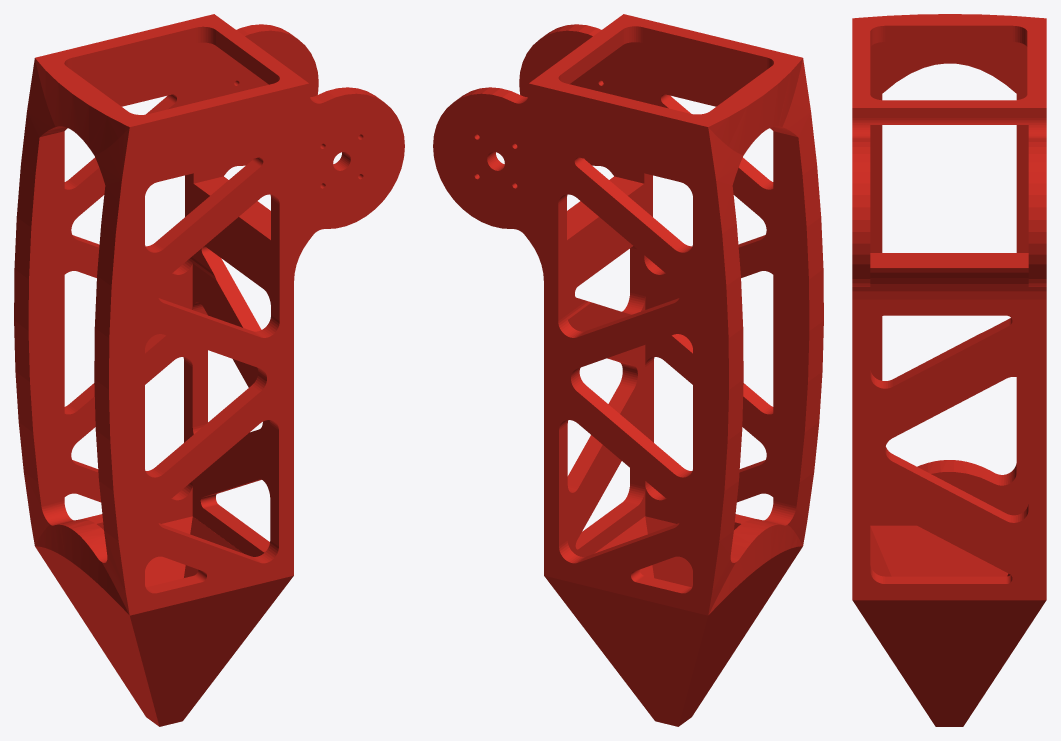
The model's file is leg_v1.dae.
3 renders of one model, left to right at view 1: azimuth 30°, elevation 25°; view 2: azimuth 150°, elevation 25°; view 3: azimuth 270°, elevation 25°, orthographic. The views are drawn at different scales.
Visible parts, largest first — view 1: shin; view 2: shin; view 3: shin.
Part boxes in pixels (<box>): shin: <box>14,14,404,726</box>; shin: <box>433,14,823,726</box>; shin: <box>852,14,1046,726</box>.
Bounding box in the file's own units: 0.1175 × 0.0652 × 0.2452.
